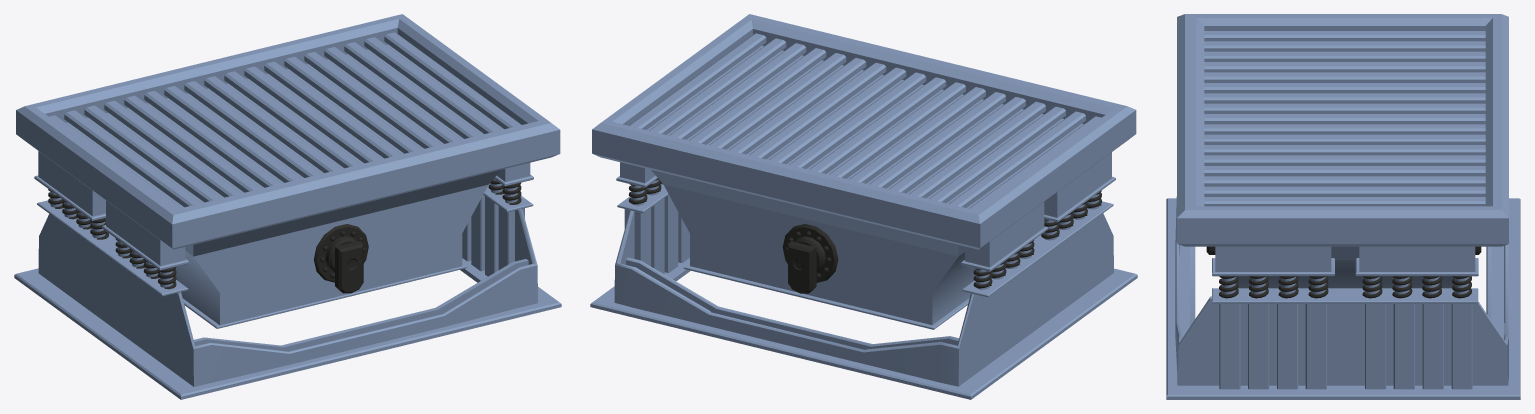
The picture shows the model from 3 angles, left to right: view 1: azimuth 30°, elevation 25°; view 2: azimuth 150°, elevation 25°; view 3: azimuth 270°, elevation 25°; orthographic projection. The views are drawn at different scales.
Parts seen in each view (by area): view 1: polySurface12; view 2: polySurface12; view 3: polySurface12.
Boxes of the visible parts, box(x1,y1,x2,y2) form: polySurface12: box(14, 14, 561, 399); polySurface12: box(590, 14, 1137, 399); polySurface12: box(1166, 14, 1520, 399).
Bounding box in the file's own units: 4.88 × 2.14 × 3.63.
